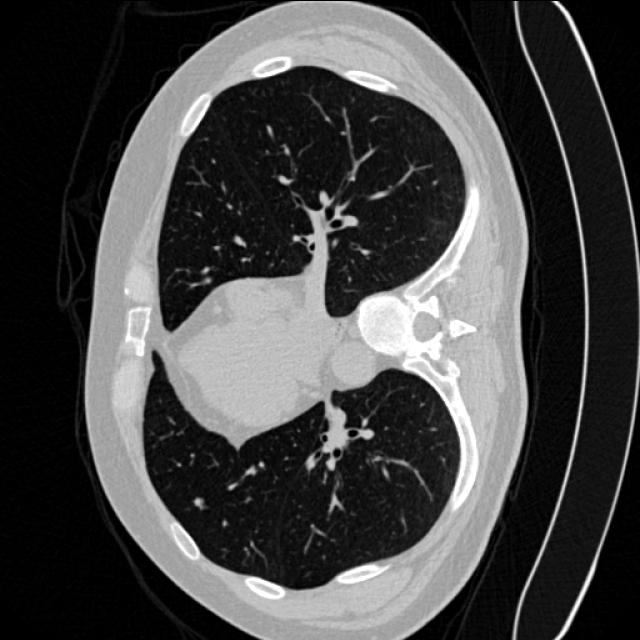nodule: (186, 488, 208, 510)
